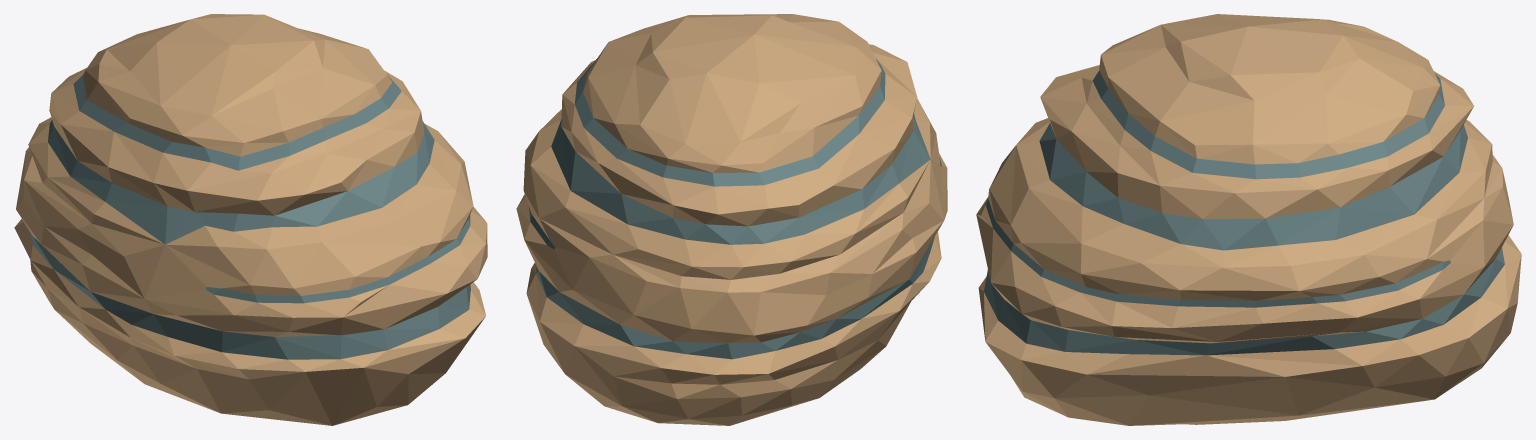
Rendered from SM_LP_MetalNode_5.fbx.
3 views of the same model, side by side, from view 1: azimuth 30°, elevation 25°; view 2: azimuth 150°, elevation 25°; view 3: azimuth 270°, elevation 25° (orthographic). The views are drawn at different scales.
Parts seen in each view (by area): view 1: SM_LP_MetalNode_5; view 2: SM_LP_MetalNode_5; view 3: SM_LP_MetalNode_5.
Boxes of the visible parts, x1,y1,x2,y2 form: SM_LP_MetalNode_5: [14, 14, 487, 425]; SM_LP_MetalNode_5: [516, 14, 947, 425]; SM_LP_MetalNode_5: [976, 14, 1521, 425].
Size of the model in its own units: 0.7899 by 0.7184 by 0.9605.
